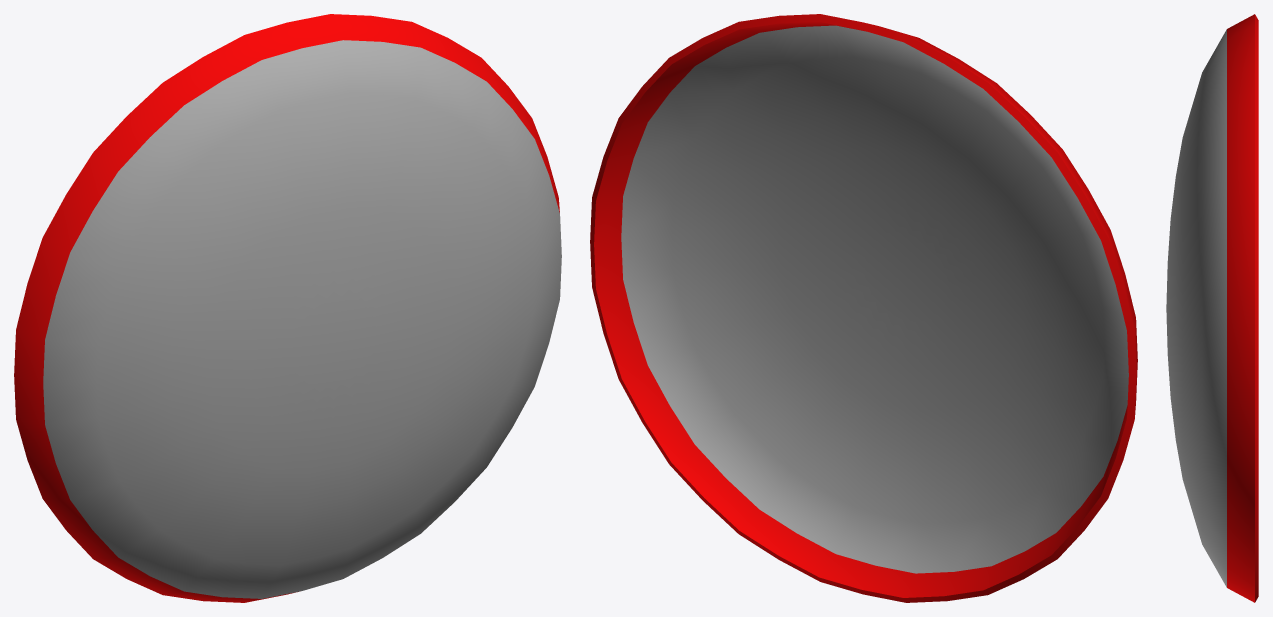
File: odfqjvirusbgkfvesd(1).fbx
The picture shows the model from 3 angles, left to right: view 1: azimuth 30°, elevation 25°; view 2: azimuth 150°, elevation 25°; view 3: azimuth 270°, elevation 25°; orthographic projection. The views are drawn at different scales.
Parts seen in each view (by area): view 1: pSphere1; view 2: pSphere1; view 3: pSphere1.
Part boxes in pixels (box(x1,y1,x2,y2)): pSphere1: box(14, 14, 561, 602); pSphere1: box(590, 14, 1137, 602); pSphere1: box(1166, 14, 1258, 602).
Bounding box in the file's own units: 622 × 622 × 97.93.
